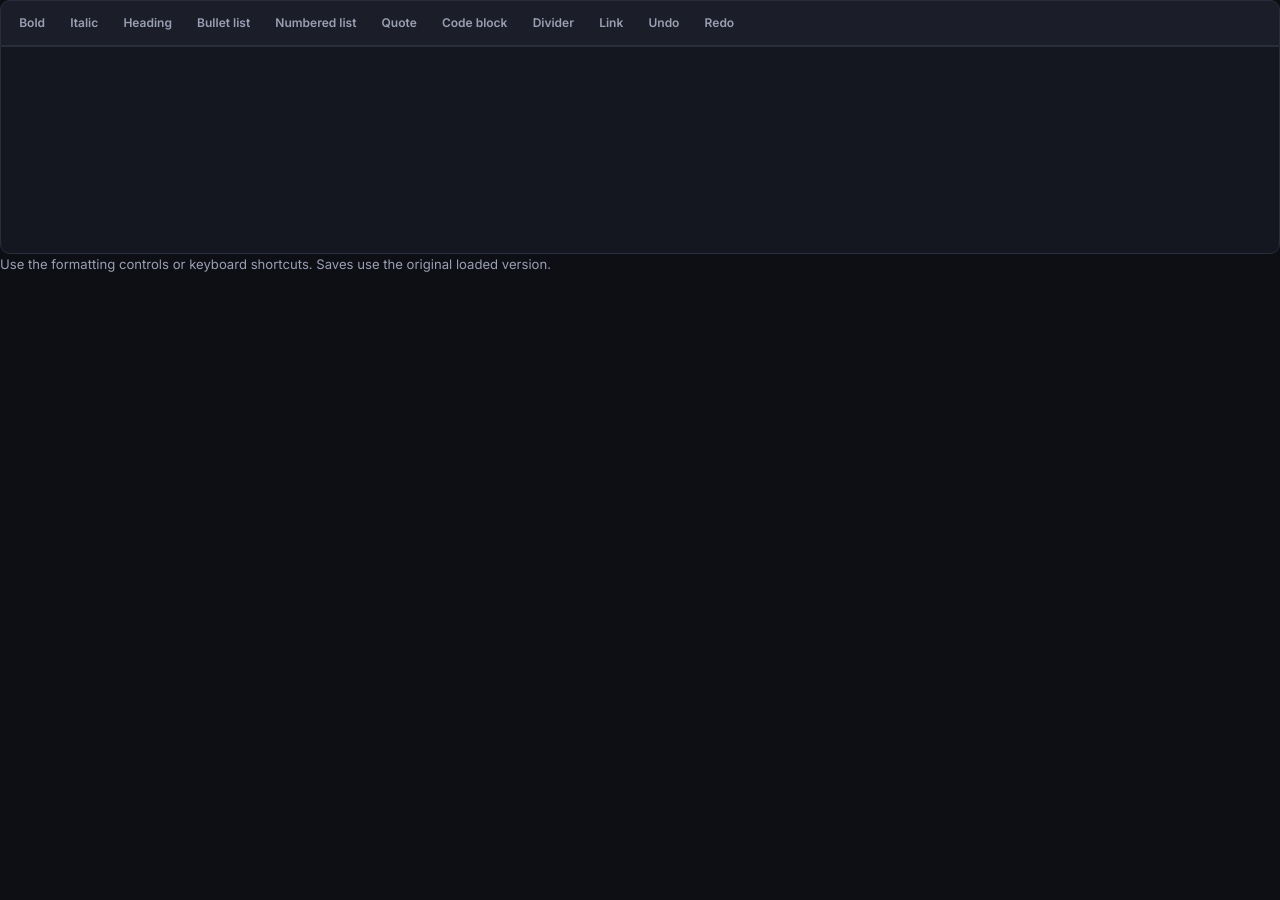
Test: document editor overlays › keeps link validation submissions inside the link overlay
Click the button "Link": (611, 23) [588,8,634,38]
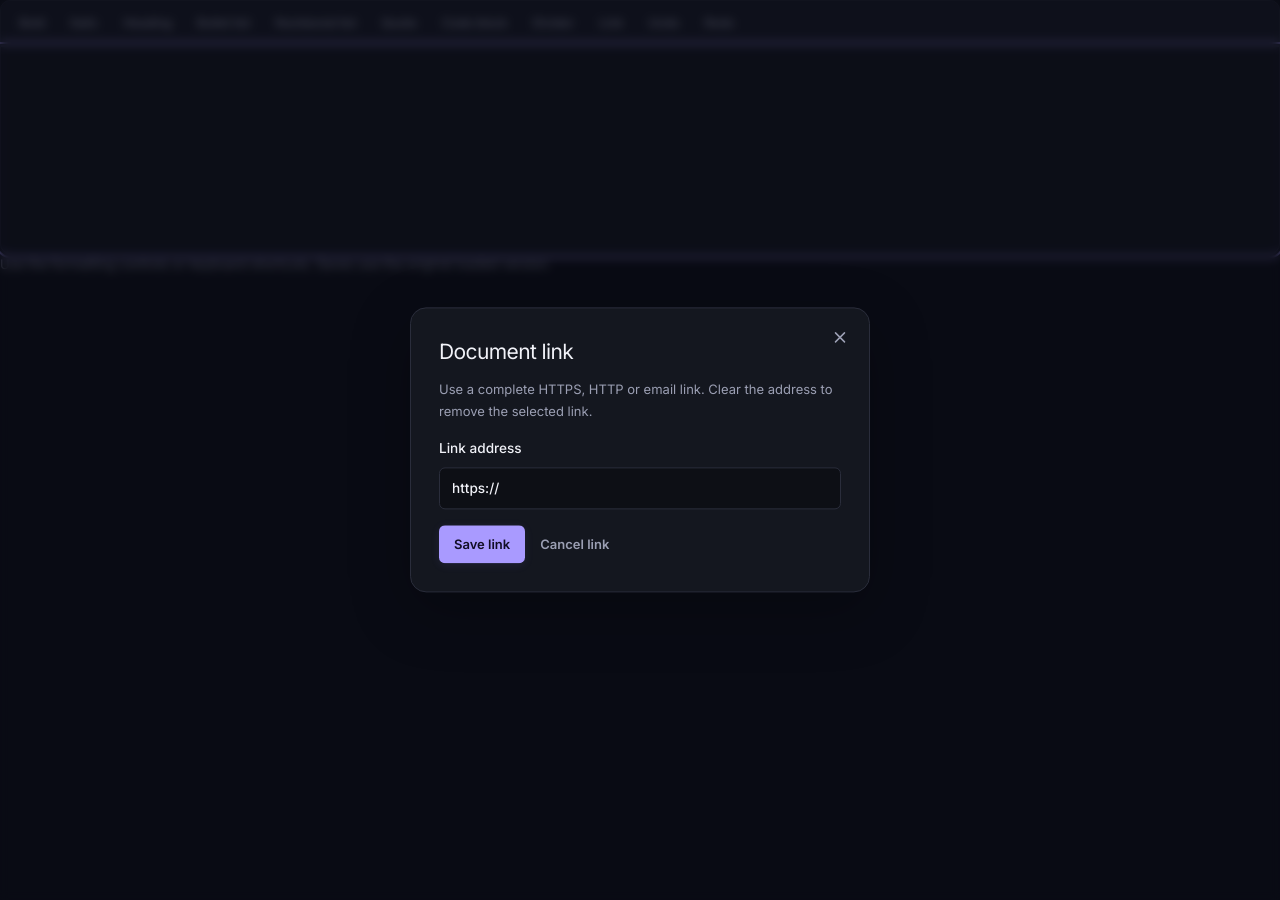
Replace the text in the field labelled "Link address" with "javascript:alert(1)": (640, 488) [439,467,841,510]
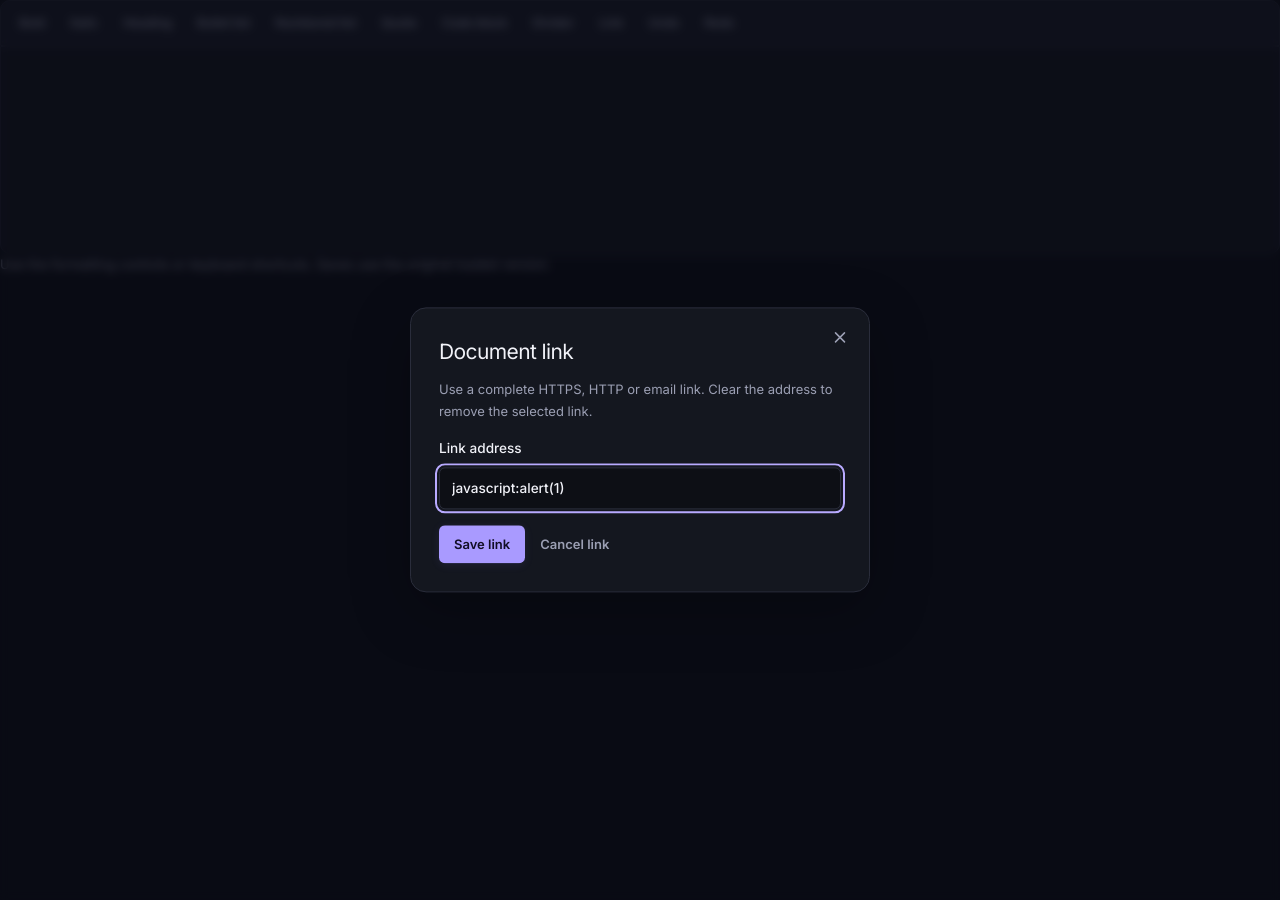
Submit the form "Save link", box [439,438,841,564]
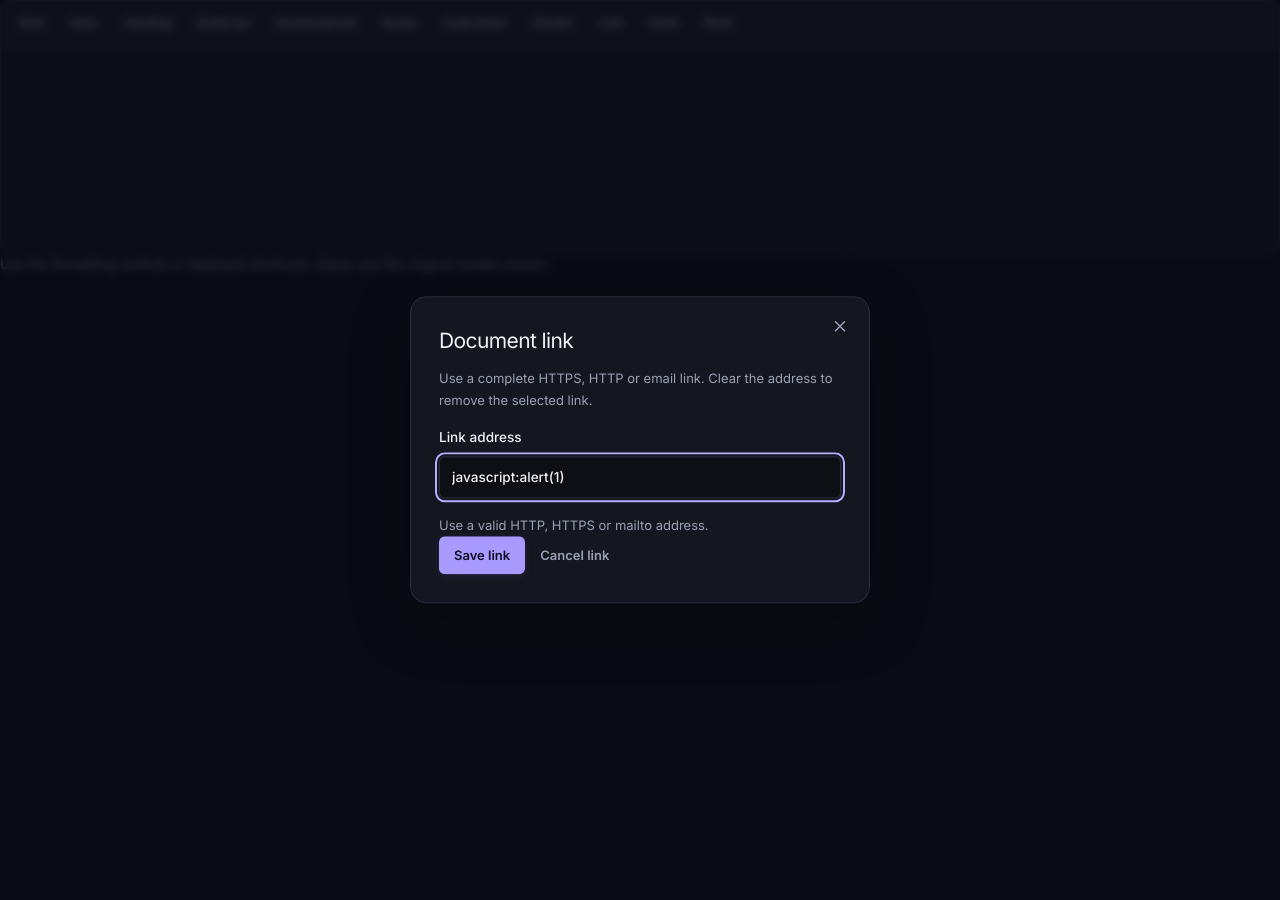
Check: the message shows "valid HTTP", box [439,518,709,534]
